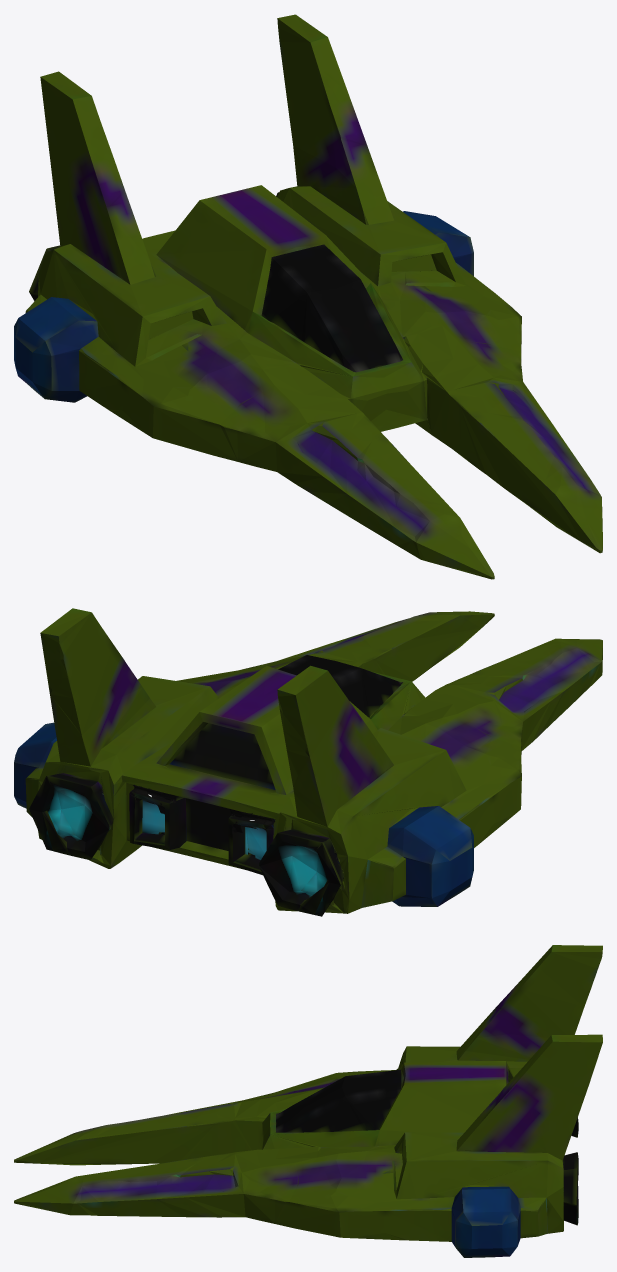
3 renders of one model, top to bottom at view 1: azimuth 30°, elevation 25°; view 2: azimuth 150°, elevation 25°; view 3: azimuth 270°, elevation 25°, orthographic. The views are drawn at different scales.
Parts seen in each view (by area): view 1: world; view 2: world; view 3: world.
Boxes of the visible parts, <box> form: world: <box>14,14,602,579</box>; world: <box>14,608,602,916</box>; world: <box>14,945,602,1257</box>.
Bounding box in the file's own units: 0.6711 × 0.3595 × 1.
Materials: 4 (1 with a texture image).
